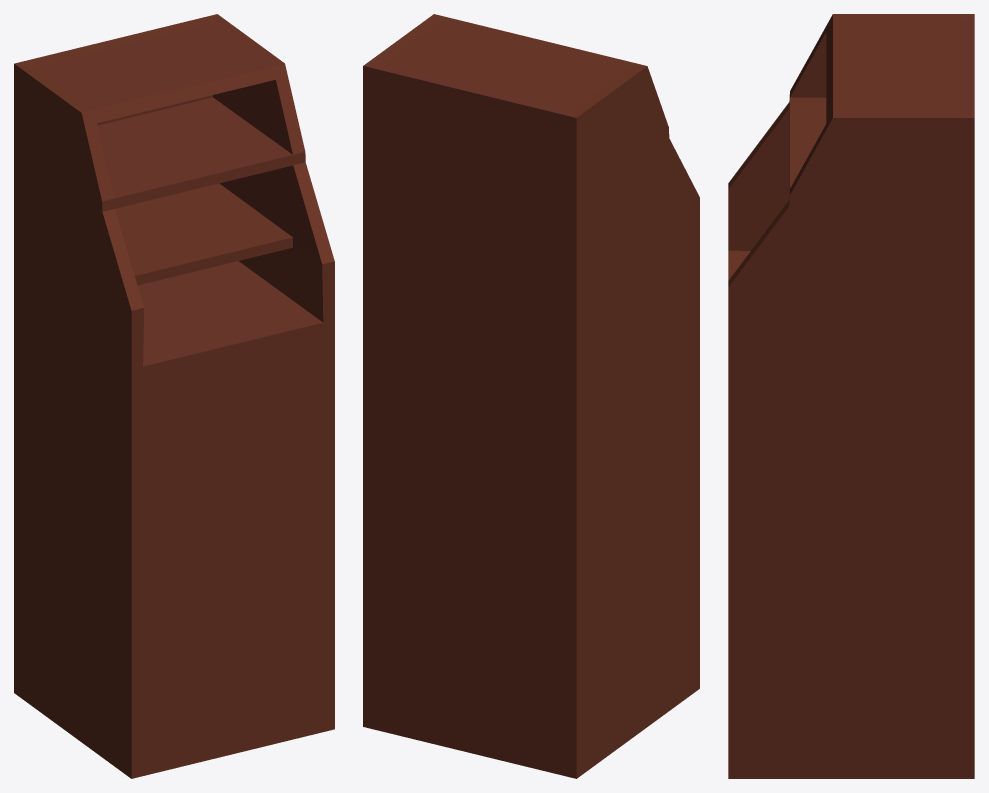
File: StolTrav.fbx
3 renders of one model, left to right at view 1: azimuth 30°, elevation 25°; view 2: azimuth 150°, elevation 25°; view 3: azimuth 270°, elevation 25°, orthographic. The views are drawn at different scales.
Visible parts, largest first — view 1: StandForHerbs; view 2: StandForHerbs; view 3: StandForHerbs.
Part boxes in pixels (x1=…): StandForHerbs: x1=14, y1=14, x2=334, y2=778; StandForHerbs: x1=363, y1=14, x2=699, y2=778; StandForHerbs: x1=728, y1=14, x2=974, y2=778.
Bounding box in the file's own units: 50 × 148 × 50.
